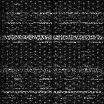lte: (1, 34, 104, 40), (1, 11, 104, 14), (1, 22, 104, 24), (1, 90, 103, 92)
